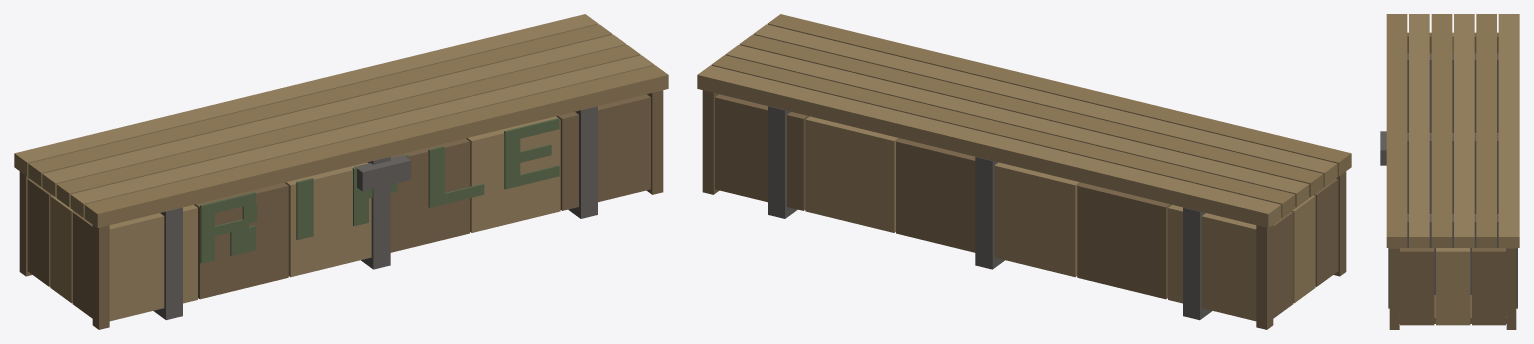
The model's file is gun_case.glb.
The picture shows the model from 3 angles, left to right: view 1: azimuth 30°, elevation 25°; view 2: azimuth 150°, elevation 25°; view 3: azimuth 270°, elevation 25°; orthographic projection. The views are drawn at different scales.
Parts seen in each view (by area): view 1: CaseLid_0, CaseLid_1, CaseLid_2, CaseLid_3, CaseLid_4, CaseLid_5, CaseSlat_f_5, CaseSlat_f_0, CaseSlat_f_4, CaseSlat_f_1, CaseSlat_f_2, CaseSlat_f_3 (+20 smaller); view 2: CaseLid_5, CaseSlat_b_4, CaseSlat_b_1, CaseLid_4, CaseLid_3, CaseLid_0, CaseLid_1, CaseLid_2, CaseSlat_b_2, CaseSlat_b_3, CaseSlat_b_5, CaseSlat_b_0 (+9 smaller); view 3: CaseLid_0, CaseLid_2, CaseLid_5, CaseLid_1, CaseLid_3, CaseLid_4, CaseSide_r_0, CaseSide_r_1, CaseSide_r_2, CaseStrap_0, CaseStrap_1, CasePost_ne (+4 smaller).
Part boxes in pixels (x1=…): CaseLid_0: x1=84, y1=65, x2=668, y2=227; CaseLid_1: x1=70, y1=55, x2=654, y2=217; CaseLid_2: x1=56, y1=45, x2=640, y2=207; CaseLid_3: x1=42, y1=34, x2=626, y2=197; CaseLid_4: x1=28, y1=24, x2=612, y2=186; CaseLid_5: x1=14, y1=14, x2=598, y2=176; CaseSlat_f_5: x1=556, y1=94, x2=650, y2=210; CaseSlat_f_0: x1=109, y1=204, x2=197, y2=321; CaseSlat_f_4: x1=466, y1=116, x2=560, y2=232; CaseSlat_f_1: x1=194, y1=182, x2=288, y2=299; CaseSlat_f_2: x1=285, y1=162, x2=371, y2=277; CaseSlat_f_3: x1=390, y1=138, x2=469, y2=252; CaseLid_5: x1=697, y1=65, x2=1281, y2=227; CaseSlat_b_4: x1=805, y1=116, x2=899, y2=232; CaseSlat_b_1: x1=1077, y1=182, x2=1171, y2=299; CaseLid_4: x1=711, y1=55, x2=1295, y2=217; CaseLid_3: x1=725, y1=45, x2=1309, y2=207; CaseLid_0: x1=767, y1=14, x2=1351, y2=176; CaseLid_1: x1=753, y1=24, x2=1337, y2=186; CaseLid_2: x1=739, y1=34, x2=1323, y2=197; CaseSlat_b_2: x1=994, y1=162, x2=1080, y2=277; CaseSlat_b_3: x1=896, y1=138, x2=975, y2=252; CaseSlat_b_5: x1=715, y1=94, x2=809, y2=210; CaseSlat_b_0: x1=1168, y1=204, x2=1256, y2=321; CaseLid_0: x1=1386, y1=14, x2=1407, y2=247; CaseLid_2: x1=1431, y1=14, x2=1452, y2=247; CaseLid_5: x1=1498, y1=14, x2=1519, y2=247; CaseLid_1: x1=1409, y1=14, x2=1429, y2=247; CaseLid_3: x1=1454, y1=14, x2=1474, y2=247; CaseLid_4: x1=1476, y1=14, x2=1496, y2=247; CaseSide_r_0: x1=1400, y1=248, x2=1434, y2=325; CaseSide_r_1: x1=1436, y1=248, x2=1470, y2=325; CaseSide_r_2: x1=1472, y1=248, x2=1505, y2=325; CaseStrap_0: x1=1407, y1=53, x2=1498, y2=132; CaseStrap_1: x1=1407, y1=134, x2=1498, y2=213; CasePost_ne: x1=1506, y1=248, x2=1516, y2=329.
Size of the model in its own units: 0.936 by 0.194 by 0.247.
